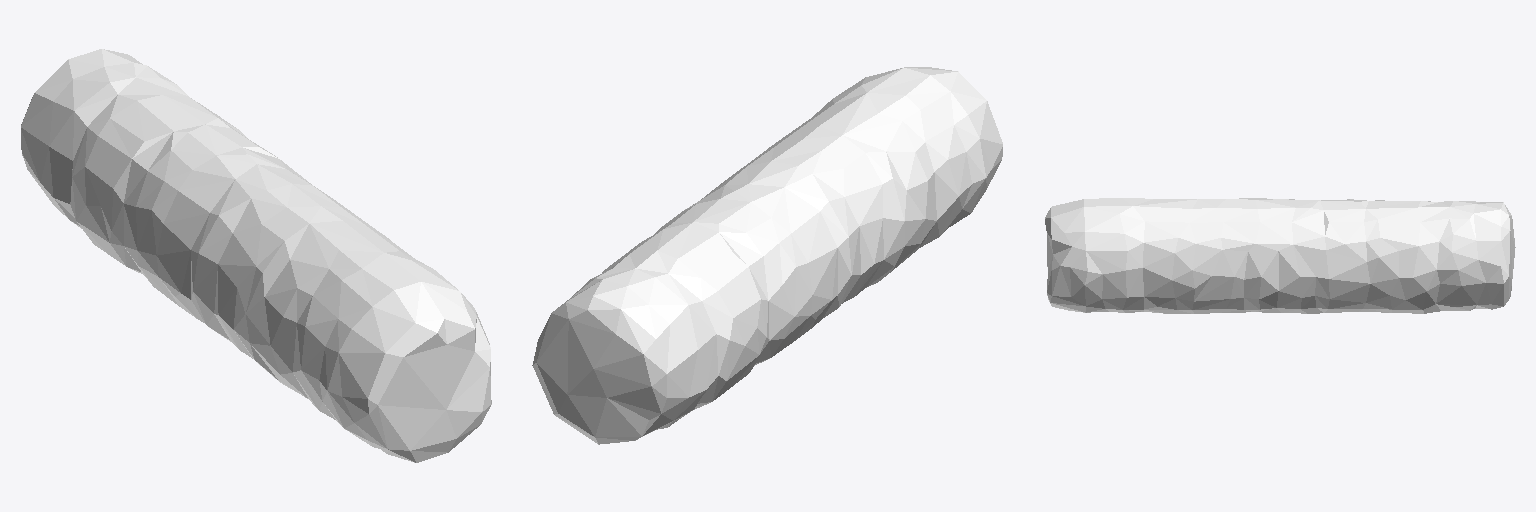
robot.urdf — atb1_rod-16mm:
<?xml version="0.0" ?>
<robot name="atb1_rod-16mm">
  <link name="baseLink">
    <contact>
      <friction_anchor/>
      <lateral_friction value="0.8"/>
      <spinning_friction value="0.001"/>
      <rolling_friction value="0.001"/>
      <contact_cfm value="0.0"/>
      <contact_erp value="0.2"/>
    </contact>
    <inertial>
       <origin rpy="0 0 0" xyz="0 0 0"/>
       <mass value="0.01"/>
       <inertia ixx="1e-3" ixy="0" ixz="0" iyy="1e-3" iyz="0" izz="1e-3"/>
    </inertial>
    <visual>
      <origin rpy="0 0 0" xyz="0 0 0"/>
      <geometry>
        <mesh filename="obj/fused_model.obj" scale="1 1 1"/>
      </geometry>
      <material name="white">
        <color rgba="1. 1. 1. 1."/>
      </material>
    </visual>
    <collision>
      <origin rpy="0 0 0" xyz="0 0 0"/>
      <geometry>
        <mesh filename="obj/fused_model.obj" scale="1 1 1"/>
      </geometry>
    </collision>
  </link>
</robot>

--- What the picture shows (computed from the rendered views, not written in the file) ---
3 views of the same robot in one strip: view 1: azimuth 30°, elevation 25°; view 2: azimuth 150°, elevation 25°; view 3: azimuth 270°, elevation 25° (orthographic).
Model atb1_rod-16mm with 1 links and 0 joints (none), rooted at baseLink, posed all joints at 0.
Visible links, largest first — view 1: baseLink; view 2: baseLink; view 3: baseLink.
Link boxes in pixels (left/top/right/bottom): baseLink: left=21, top=49, right=491, bottom=462; baseLink: left=532, top=67, right=1002, bottom=444; baseLink: left=1045, top=198, right=1515, bottom=313.
Bounding box of the posed robot: 0.0144 × 0.0581 × 0.0148 m (x, y, z).
Meshes: 1 distinct files referenced, 1 mesh visuals loaded (1 OBJ).
